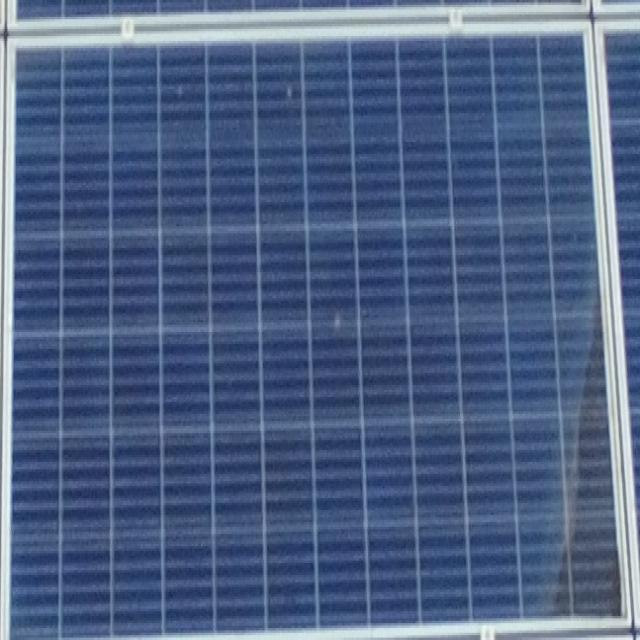Dust: (520, 286, 624, 616)
bird-droppings: (328, 296, 348, 344), (283, 78, 297, 100), (176, 80, 184, 98)
